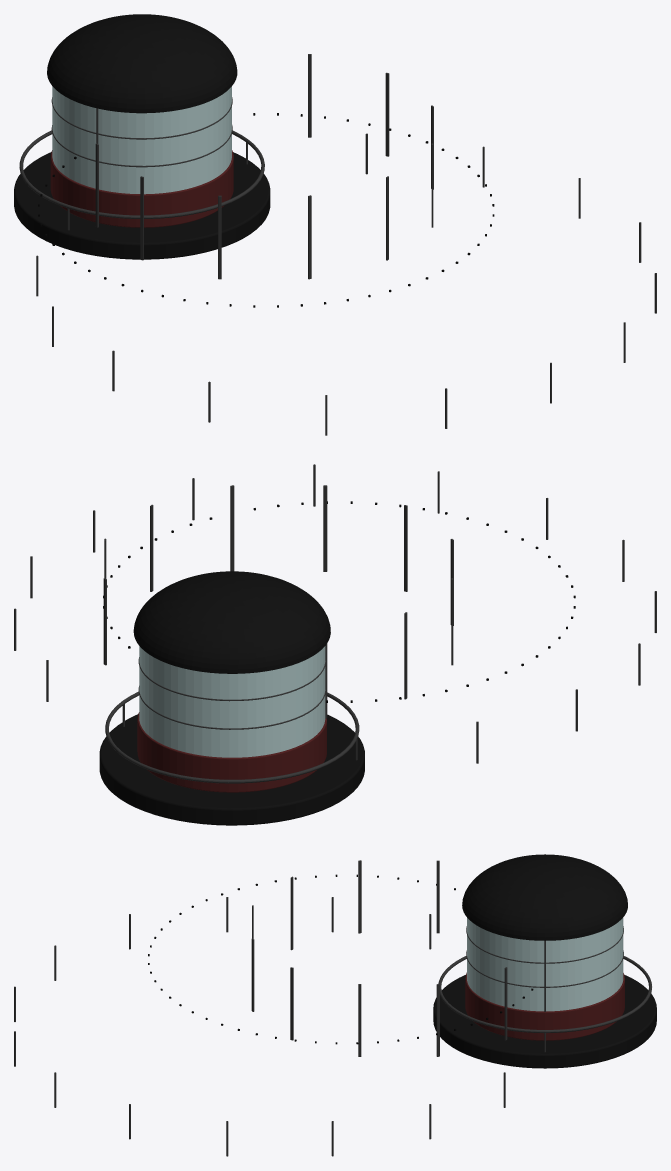
Rendered from BB_LanternRoom_Hero.obj.
3 views of the same model, one above another, from view 1: azimuth 30°, elevation 25°; view 2: azimuth 150°, elevation 25°; view 3: azimuth 270°, elevation 25° (orthographic). The views are drawn at different scales.
Parts seen in each view (by area): view 1: Roof_Dome, Lantern_Glass, Lantern_Base, Lower_Ring, Mullion_Vertical, Gallery_Post, Gallery_Railing; view 2: Roof_Dome, Lantern_Glass, Lantern_Base, Lower_Ring, Mullion_Vertical, Gallery_Post, Gallery_Railing; view 3: Roof_Dome, Lantern_Glass, Lantern_Base, Lower_Ring, Mullion_Vertical, Gallery_Post, Gallery_Railing.
Boxes of the visible parts, x1=… form: Roof_Dome: x1=47, y1=14, x2=237, y2=113; Lantern_Glass: x1=52, y1=86, x2=231, y2=194; Lantern_Base: x1=14, y1=152, x2=270, y2=259; Lower_Ring: x1=50, y1=150, x2=233, y2=227; Mullion_Vertical: x1=95, y1=54, x2=433, y2=279; Gallery_Post: x1=36, y1=133, x2=656, y2=435; Gallery_Railing: x1=19, y1=130, x2=264, y2=218; Roof_Dome: x1=133, y1=571, x2=330, y2=673; Lantern_Glass: x1=139, y1=646, x2=325, y2=757; Lantern_Base: x1=99, y1=714, x2=364, y2=825; Lower_Ring: x1=137, y1=712, x2=326, y2=792; Mullion_Vertical: x1=103, y1=485, x2=453, y2=718; Gallery_Post: x1=14, y1=464, x2=656, y2=763; Gallery_Railing: x1=105, y1=691, x2=359, y2=783; Roof_Dome: x1=462, y1=854, x2=627, y2=940; Lantern_Glass: x1=467, y1=917, x2=623, y2=1011; Lantern_Base: x1=433, y1=975, x2=656, y2=1068; Lower_Ring: x1=465, y1=972, x2=624, y2=1040; Mullion_Vertical: x1=251, y1=860, x2=545, y2=1056; Gallery_Post: x1=14, y1=897, x2=545, y2=1156; Gallery_Railing: x1=438, y1=956, x2=651, y2=1033.
Size of the model in its own units: 16.65 by 5.3 by 20.12.
